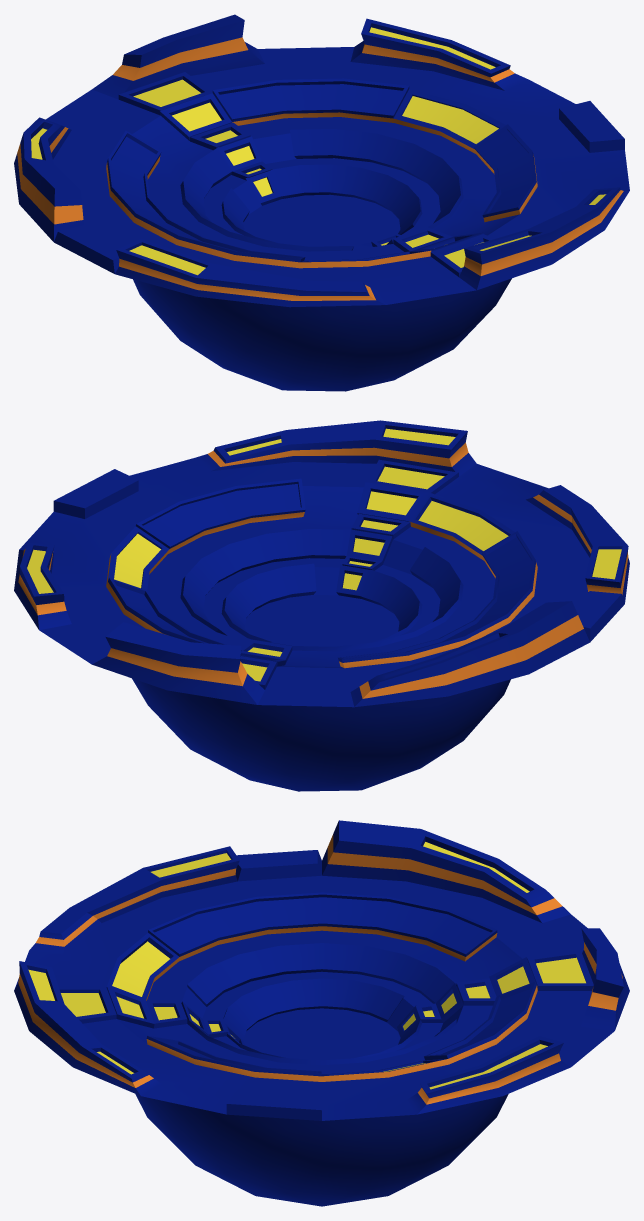
Rendered from Level15B1.fbx.
3 renders of one model, top to bottom at view 1: azimuth 30°, elevation 25°; view 2: azimuth 150°, elevation 25°; view 3: azimuth 270°, elevation 25°, orthographic.
Parts seen in each view (by area): view 1: Icosphere; view 2: Icosphere; view 3: Icosphere.
Boxes of the visible parts, x1=… form: Icosphere: x1=14, y1=14, x2=629, y2=391; Icosphere: x1=14, y1=420, x2=629, y2=791; Icosphere: x1=14, y1=820, x2=629, y2=1206.
Bounding box in the file's own units: 3446 × 1485 × 3446.
